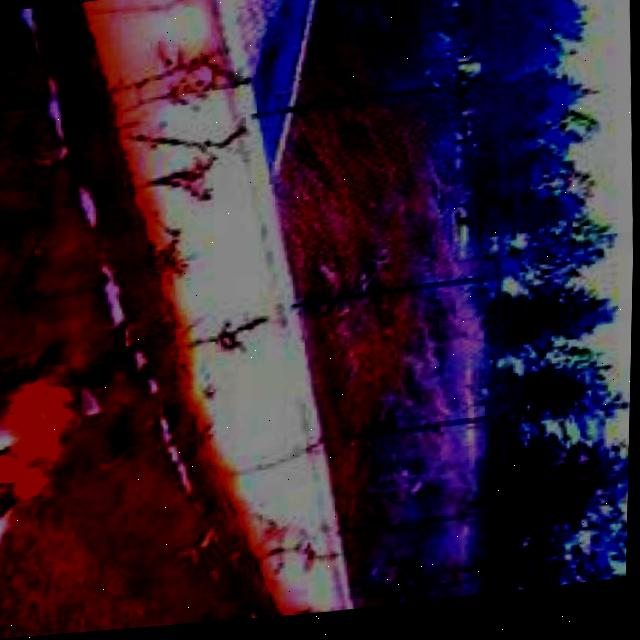Fire: (0, 373, 83, 531)
Smoke: (0, 373, 83, 531)
